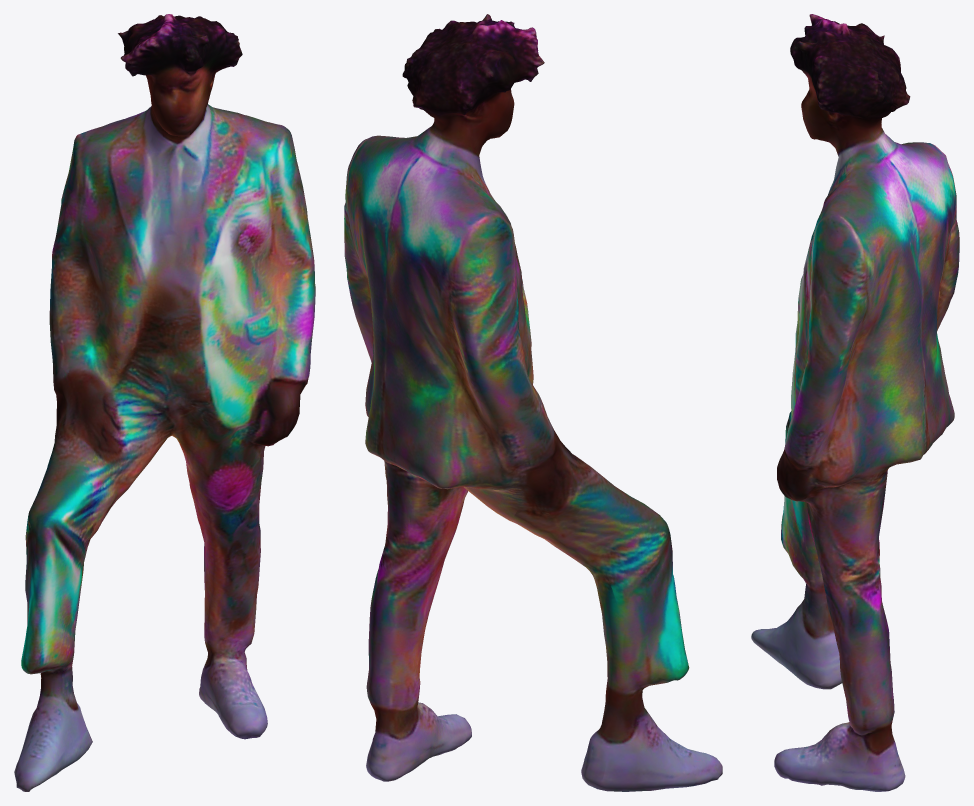
3 views of the same model, side by side, from view 1: azimuth 30°, elevation 25°; view 2: azimuth 150°, elevation 25°; view 3: azimuth 270°, elevation 25° (orthographic). The views are drawn at different scales.
Parts seen in each view (by area): view 1: mesh; view 2: mesh; view 3: mesh.
Boxes of the visible parts, left/top/right/bottom form: mesh: left=14, top=14, right=315, bottom=791; mesh: left=344, top=14, right=722, bottom=791; mesh: left=751, top=14, right=959, bottom=791.
Size of the model in its own units: 0.8702 by 1.84 by 0.4787.
1 material, 1 textured.
